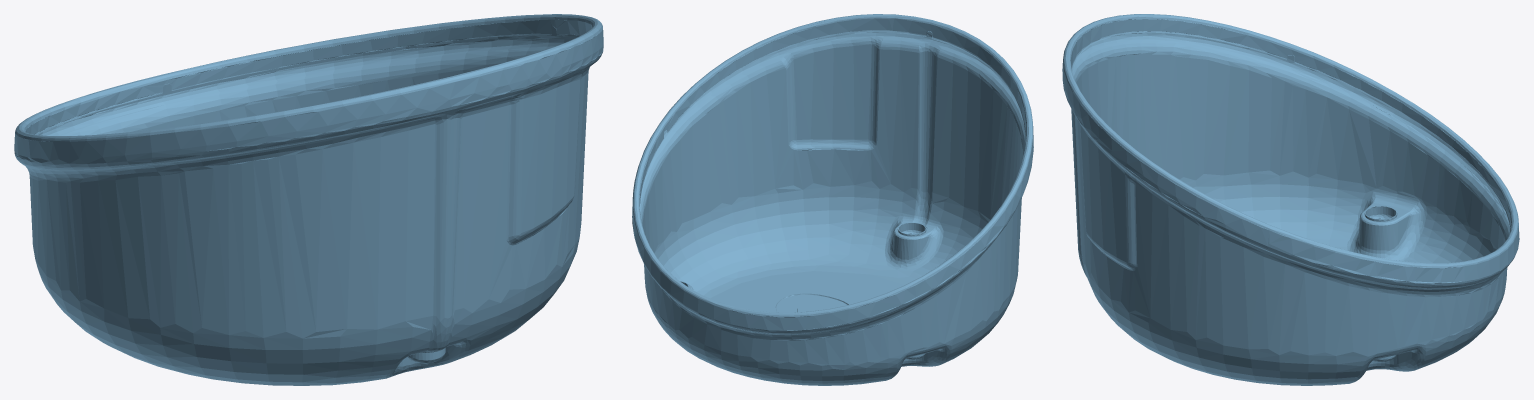
The model's file is accurate_urdf_static_16505_forearm_link_visual_vis_3.dae.
The picture shows the model from 3 angles, left to right: view 1: azimuth 30°, elevation 25°; view 2: azimuth 150°, elevation 25°; view 3: azimuth 270°, elevation 25°; orthographic projection. The views are drawn at different scales.
Parts seen in each view (by area): view 1: node; view 2: node; view 3: node.
Part boxes in pixels (x1,y1,x2,y2): node: [14, 14, 603, 385]; node: [632, 14, 1033, 385]; node: [1062, 14, 1519, 385].
Bounding box in the file's own units: 0.0787 × 0.0492 × 0.0787.
